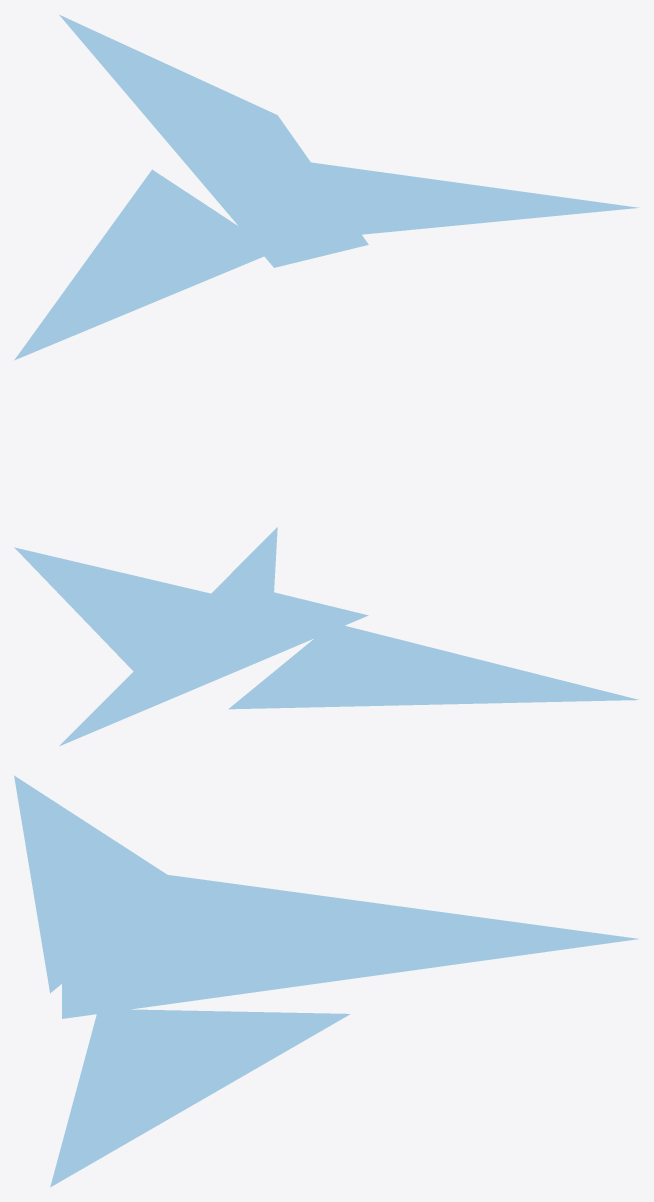
Rendered from ship.gltf.
The picture shows the model from 3 angles, top to bottom: view 1: azimuth 30°, elevation 25°; view 2: azimuth 150°, elevation 25°; view 3: azimuth 270°, elevation 25°; orthographic projection. The views are drawn at different scales.
Visible parts, largest first — view 1: Ship; view 2: Ship; view 3: Ship.
Part boxes in pixels (bbox=[...]): Ship: bbox=[14, 14, 639, 360]; Ship: bbox=[14, 527, 638, 746]; Ship: bbox=[14, 775, 638, 1187].
Bounding box in the file's own units: 3.3 × 1.12 × 2.6.
